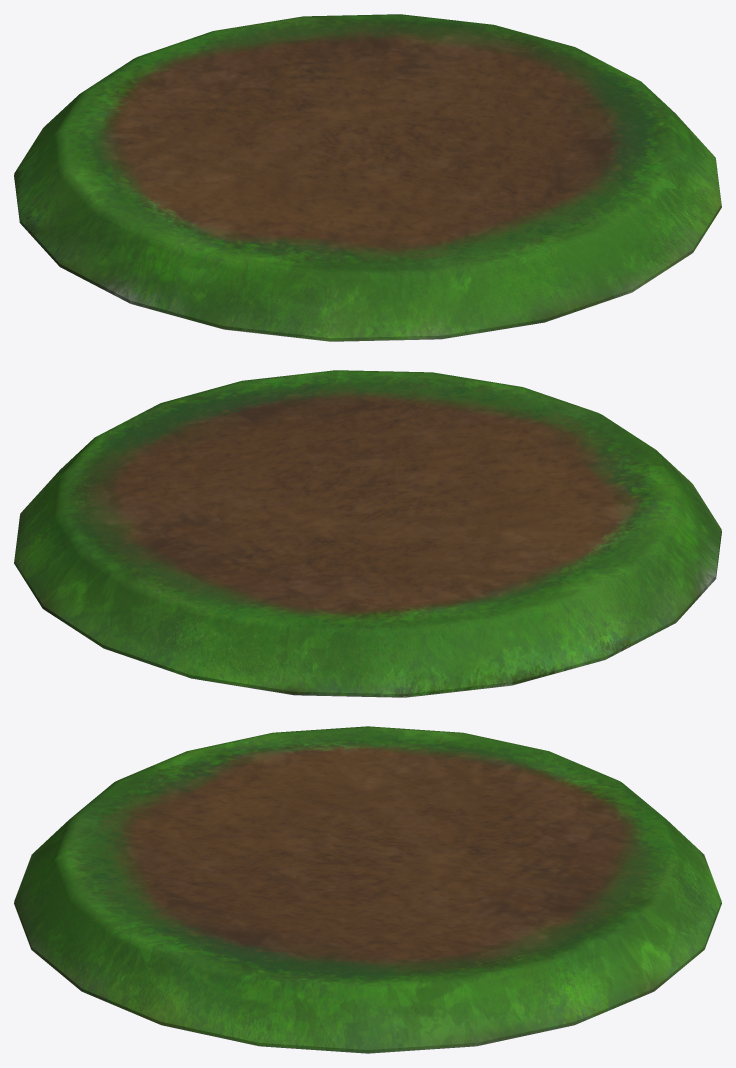
The model's file is floor_claster.fbx.
The picture shows the model from 3 angles, top to bottom: view 1: azimuth 30°, elevation 25°; view 2: azimuth 150°, elevation 25°; view 3: azimuth 270°, elevation 25°; orthographic projection.
Parts seen in each view (by area): view 1: pCylinder1; view 2: pCylinder1; view 3: pCylinder1.
Part boxes in pixels (x1,y1,x2,y2): pCylinder1: (14,14,721,341); pCylinder1: (14,370,721,697); pCylinder1: (14,726,721,1053).
Bounding box in the file's own units: 8.92 × 0.6936 × 8.92.
Materials: 2 (2 with a texture image).
